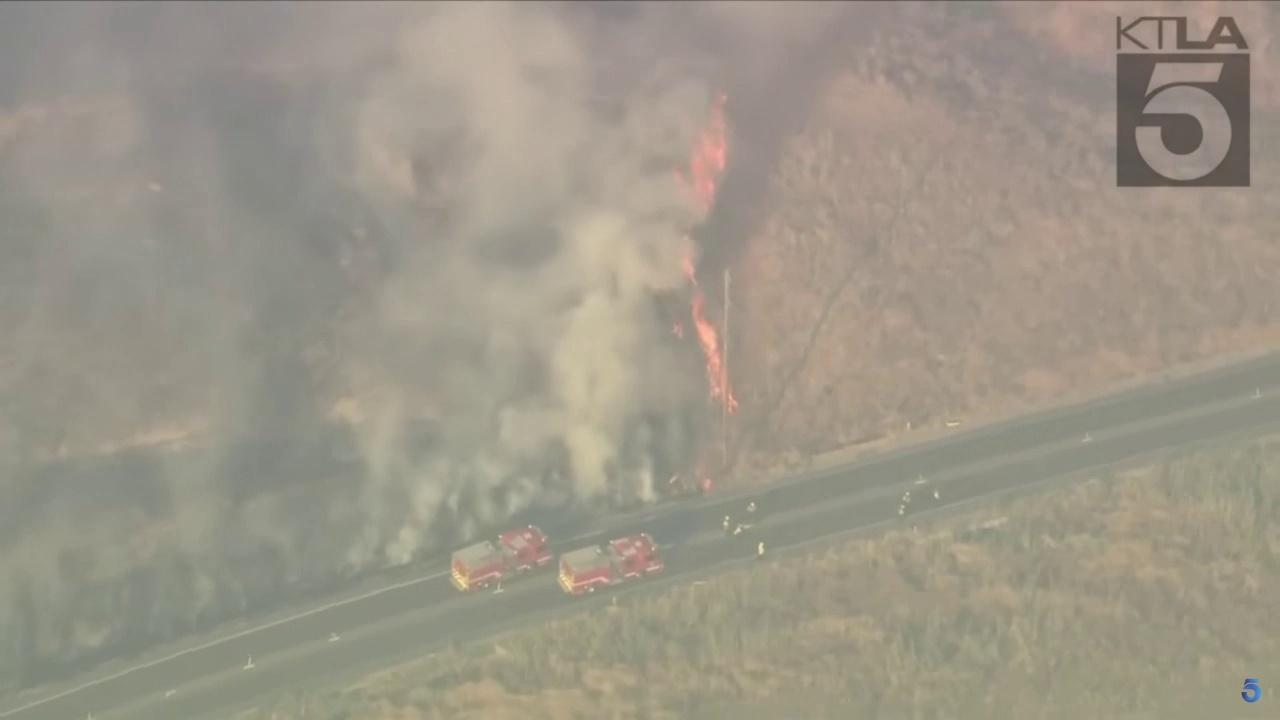fire: (673, 88, 729, 223), (691, 292, 743, 418), (681, 256, 700, 288), (672, 322, 687, 338), (702, 477, 713, 496)
smoke: (0, 0, 863, 662)
